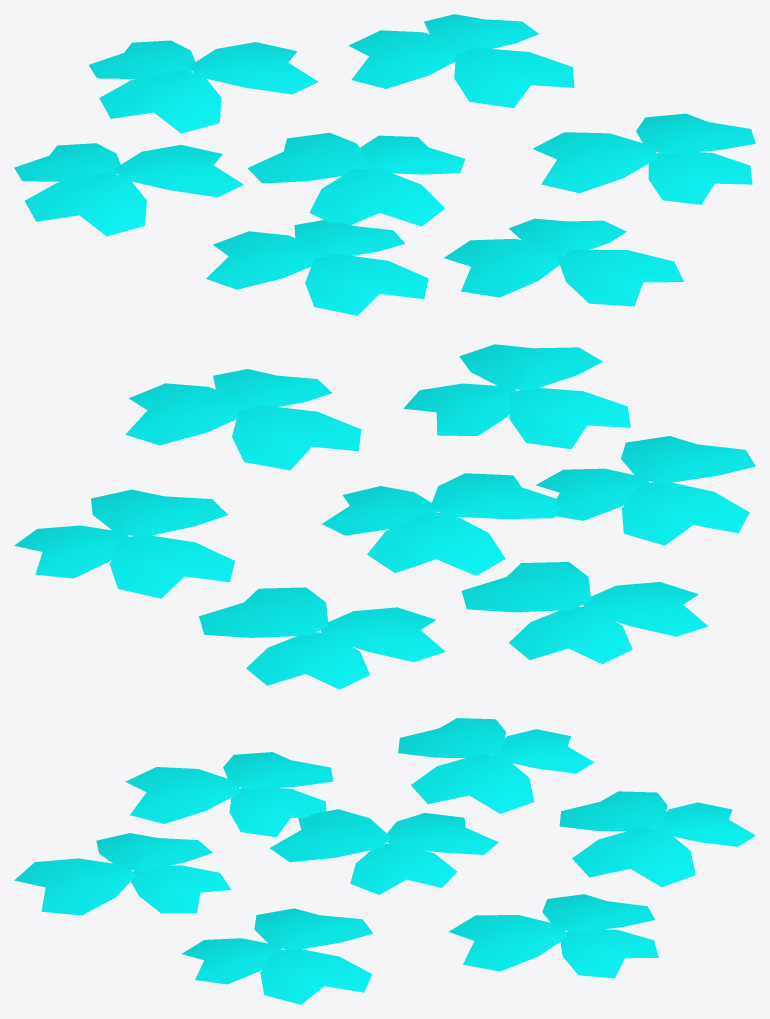
The model's file is FlowerPile_3.fbx.
The picture shows the model from 3 angles, top to bottom: view 1: azimuth 30°, elevation 25°; view 2: azimuth 150°, elevation 25°; view 3: azimuth 270°, elevation 25°; orthographic projection. The views are drawn at different scales.
Parts seen in each view (by area): view 1: FlowerPile_3; view 2: FlowerPile_3; view 3: FlowerPile_3.
Part boxes in pixels (x1,y1,x2,y2): FlowerPile_3: (14,14,755,315); FlowerPile_3: (14,344,755,689); FlowerPile_3: (14,718,755,1004).
Size of the model in its own units: 195 by 4.08 by 213.
